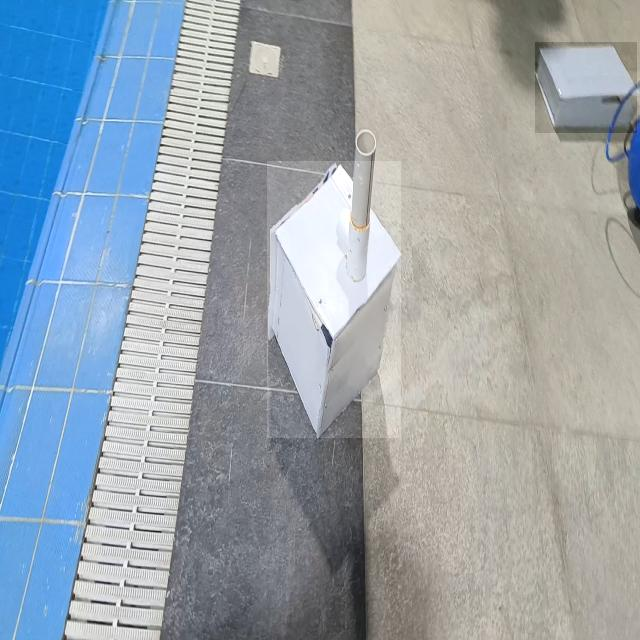Cube: (267, 161, 401, 438)
Cuboid: (535, 42, 637, 133)
